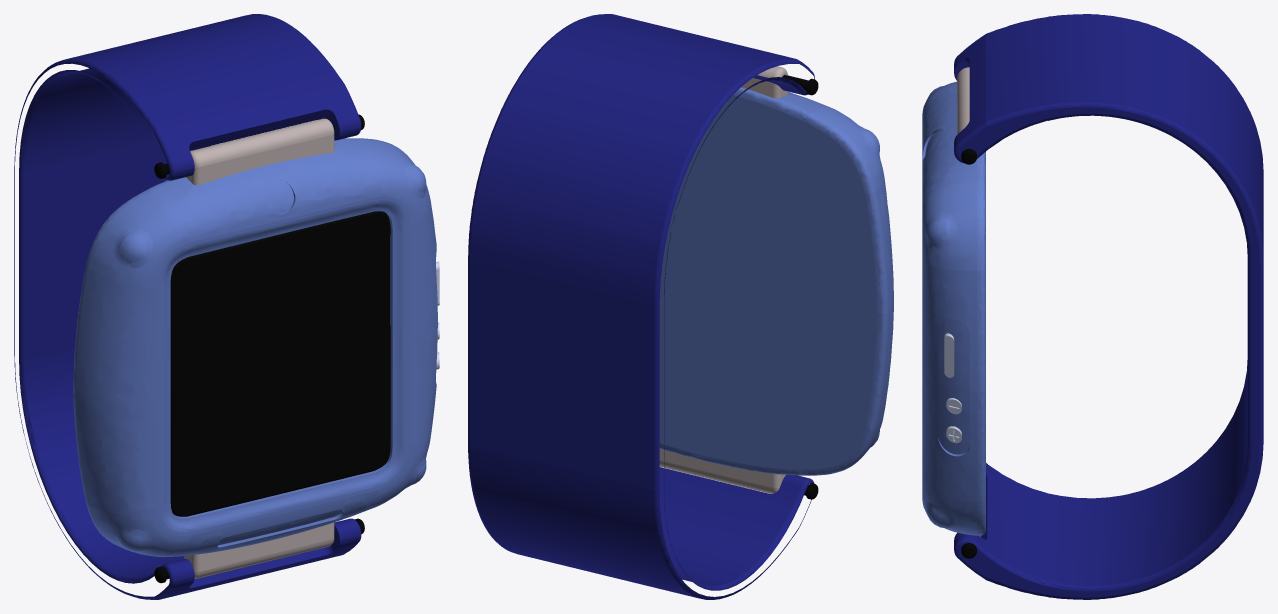
The model's file is smart-watch.glb.
3 renders of one model, left to right at view 1: azimuth 30°, elevation 25°; view 2: azimuth 150°, elevation 25°; view 3: azimuth 270°, elevation 25°, orthographic. The views are drawn at different scales.
Visible parts, largest first — view 1: Part 5, Part 10, Part 1, Part 7, Part 6; view 2: Part 10, Part 5, Part 6, Part 7; view 3: Part 10, Part 5, Part 7, Part 2.
Part boxes in pixels (bbox=[...]): Part 5: bbox=[73, 138, 437, 557]; Part 10: bbox=[14, 14, 361, 599]; Part 1: bbox=[170, 211, 390, 516]; Part 7: bbox=[186, 118, 334, 185]; Part 6: bbox=[184, 522, 334, 578]; Part 10: bbox=[468, 14, 814, 599]; Part 5: bbox=[659, 87, 893, 475]; Part 6: bbox=[659, 448, 785, 493]; Part 7: bbox=[741, 66, 787, 98]; Part 10: bbox=[954, 14, 1263, 599]; Part 5: bbox=[922, 81, 985, 535]; Part 7: bbox=[957, 67, 969, 134]; Part 2: bbox=[944, 333, 954, 377].
Bounding box in the file's own units: 50.78 × 68.91 × 42.84.
